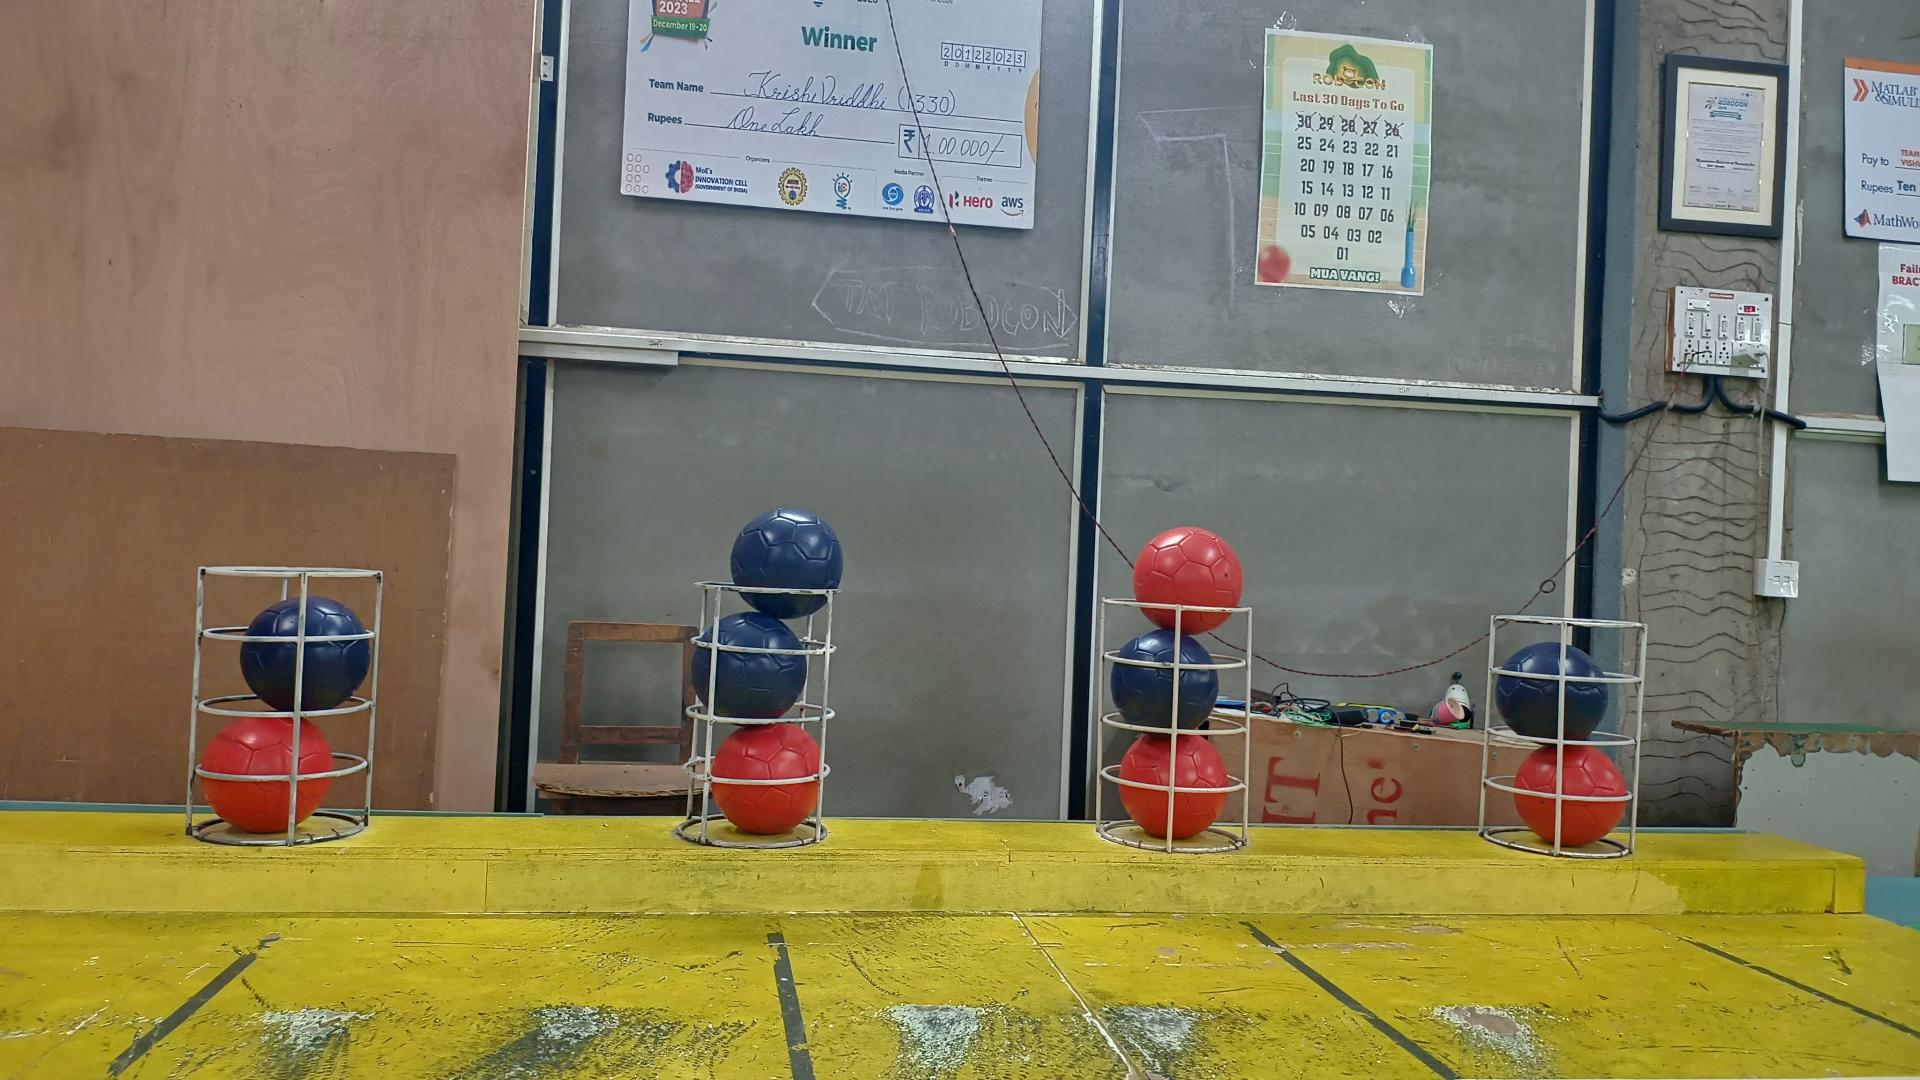dhoka: (240, 596, 372, 712), (732, 506, 844, 618), (690, 612, 806, 720), (1497, 641, 1609, 742), (1110, 630, 1218, 732)
laale: (199, 716, 334, 832), (712, 724, 822, 836), (1133, 525, 1245, 634), (1117, 735, 1230, 840), (1515, 746, 1627, 848)
